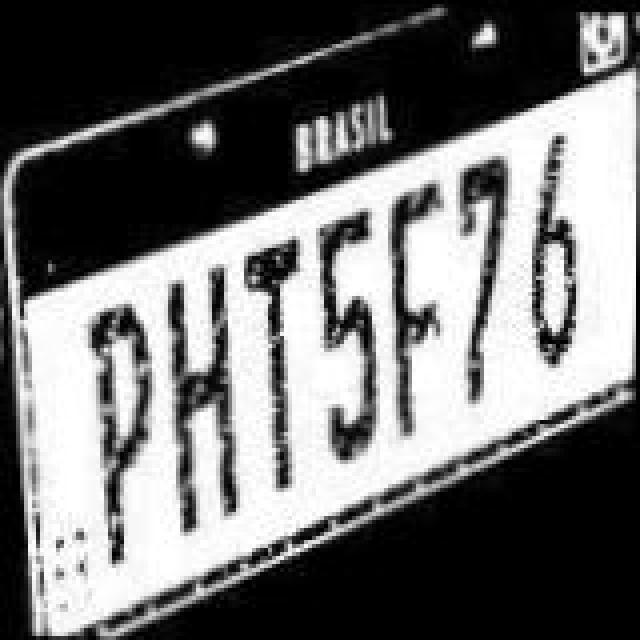5: (314, 206, 382, 482)
6: (520, 124, 592, 376)
7: (444, 148, 524, 412)
F: (384, 172, 448, 448)
H: (160, 258, 252, 542)
P: (84, 292, 160, 568)
T: (242, 226, 310, 502)
